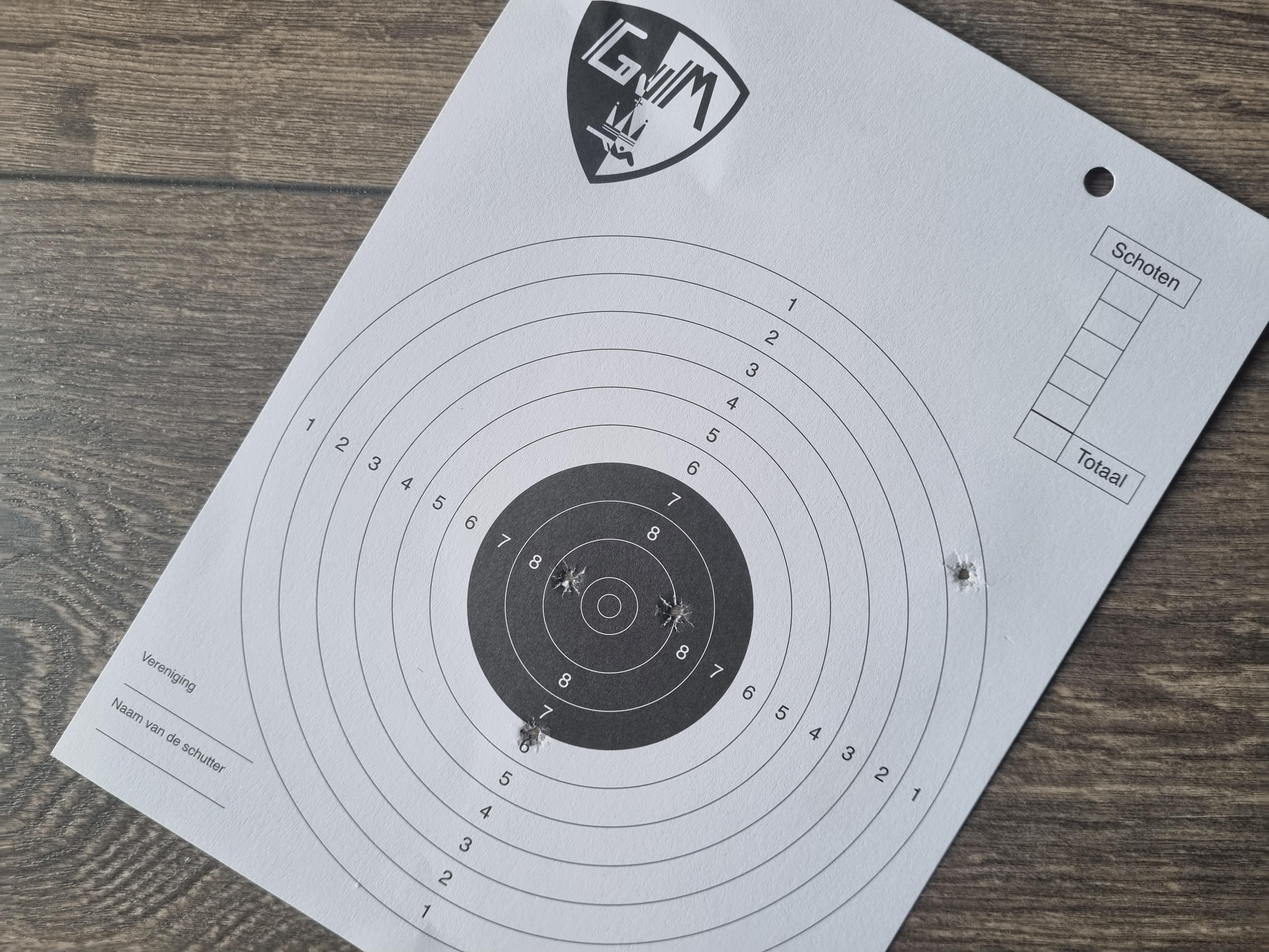hole: (477, 709, 536, 736), (426, 492, 476, 522), (470, 413, 522, 440), (265, 388, 313, 411)
